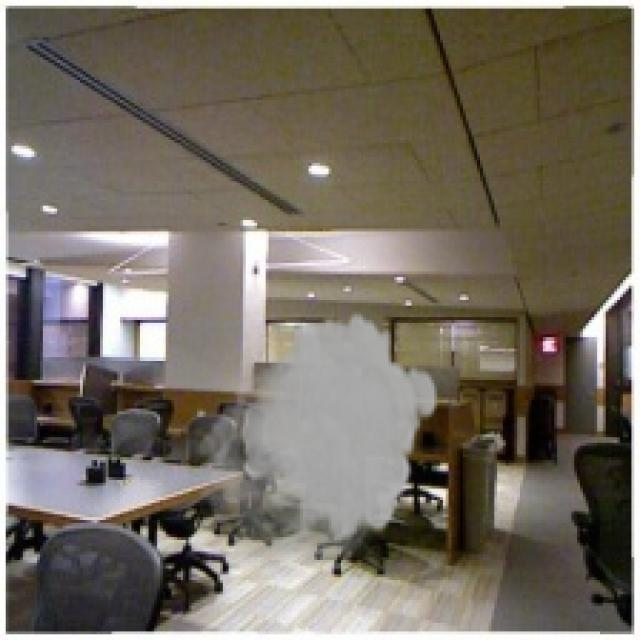Smoke: (188, 308, 440, 563)
